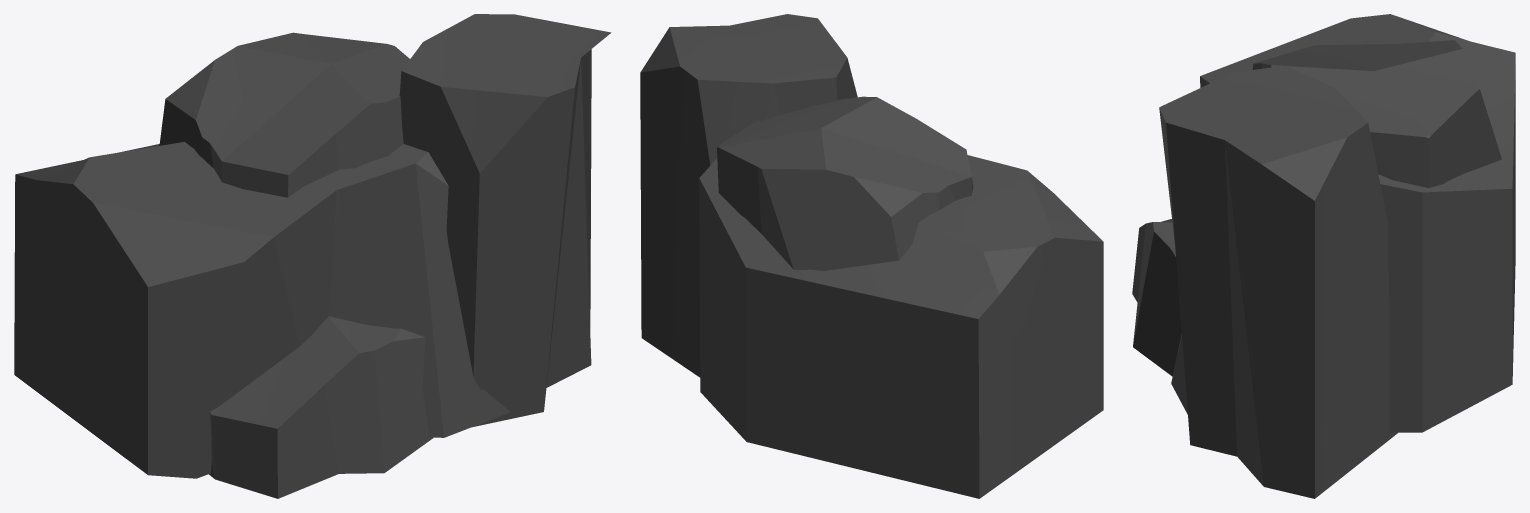
The model's file is volcanicRock02.fbx.
3 renders of one model, left to right at view 1: azimuth 30°, elevation 25°; view 2: azimuth 150°, elevation 25°; view 3: azimuth 270°, elevation 25°, orthographic. The views are drawn at different scales.
Parts seen in each view (by area): view 1: Cliff_06; view 2: Cliff_06; view 3: Cliff_06.
Boxes of the visible parts, <box> form: Cliff_06: <box>14,14,611,498</box>; Cliff_06: <box>640,14,1103,498</box>; Cliff_06: <box>1132,14,1515,498</box>.
Bounding box in the file's own units: 225 × 148 × 154.
1 material, 1 textured.
